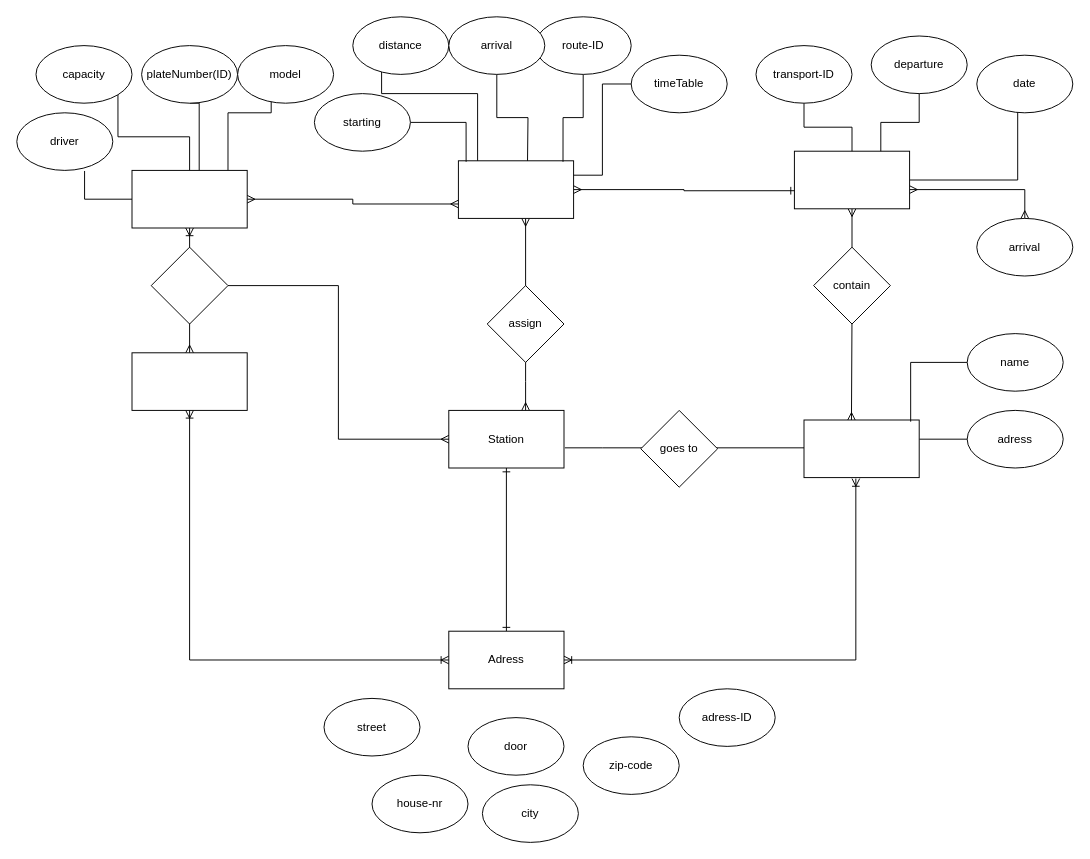
The diagram is 1090 pixels wide and 859 high, and some of its shapes have lost their labels. The shapes that lost their labels are listed below. From the top down, each one's centre as x and y in pixels, then its label:
At pixel 189 198: "Bus".
At pixel 515 189: "Routes".
At pixel 851 179: "Transport".
At pixel 189 285: "works at".
At pixel 189 381: "Employee".
At pixel 861 448: "Customer".
